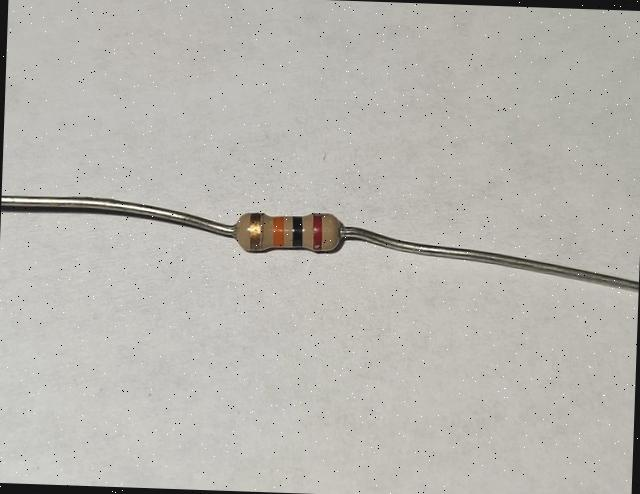black: (292, 215, 303, 248)
brown: (313, 214, 323, 251)
gold: (250, 213, 262, 251)
orange: (273, 217, 285, 249)
resistor: (235, 207, 343, 262)
